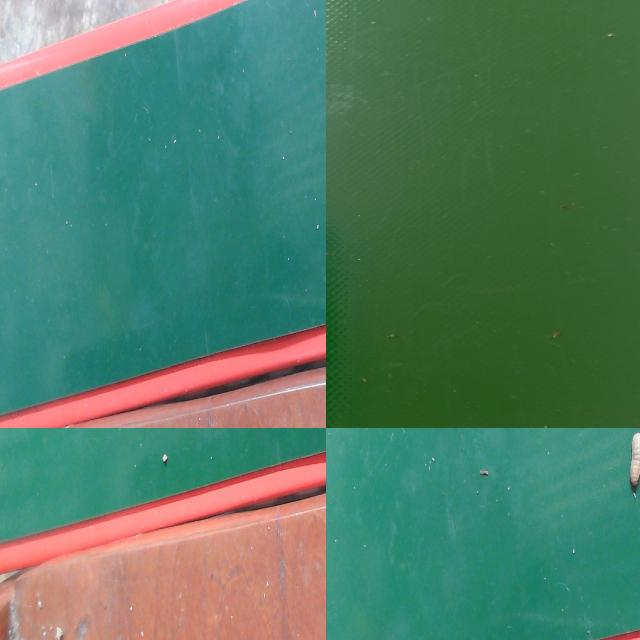Maggot: (628, 434, 640, 492)
